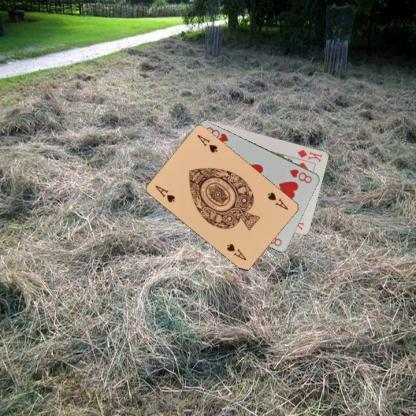8h: (287, 166, 313, 184)
As: (265, 190, 290, 212), (153, 183, 176, 204)
Kd: (294, 146, 324, 164)
